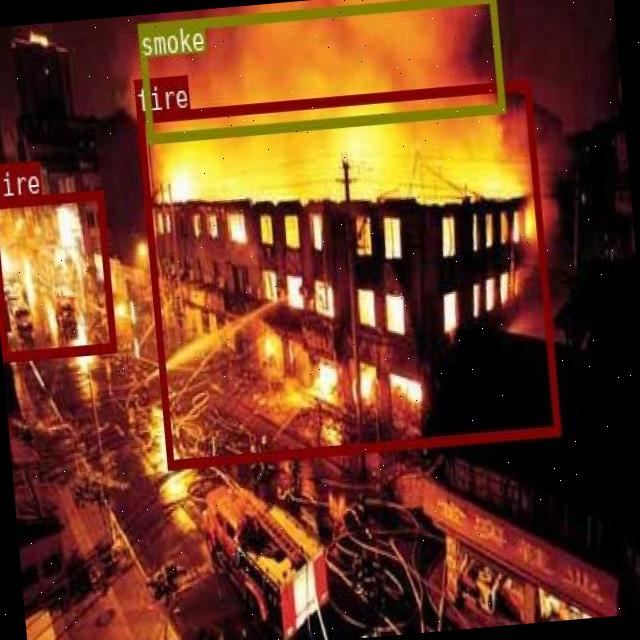fire: (136, 79, 560, 467), (0, 189, 116, 358)
smoke: (136, 0, 504, 141)
